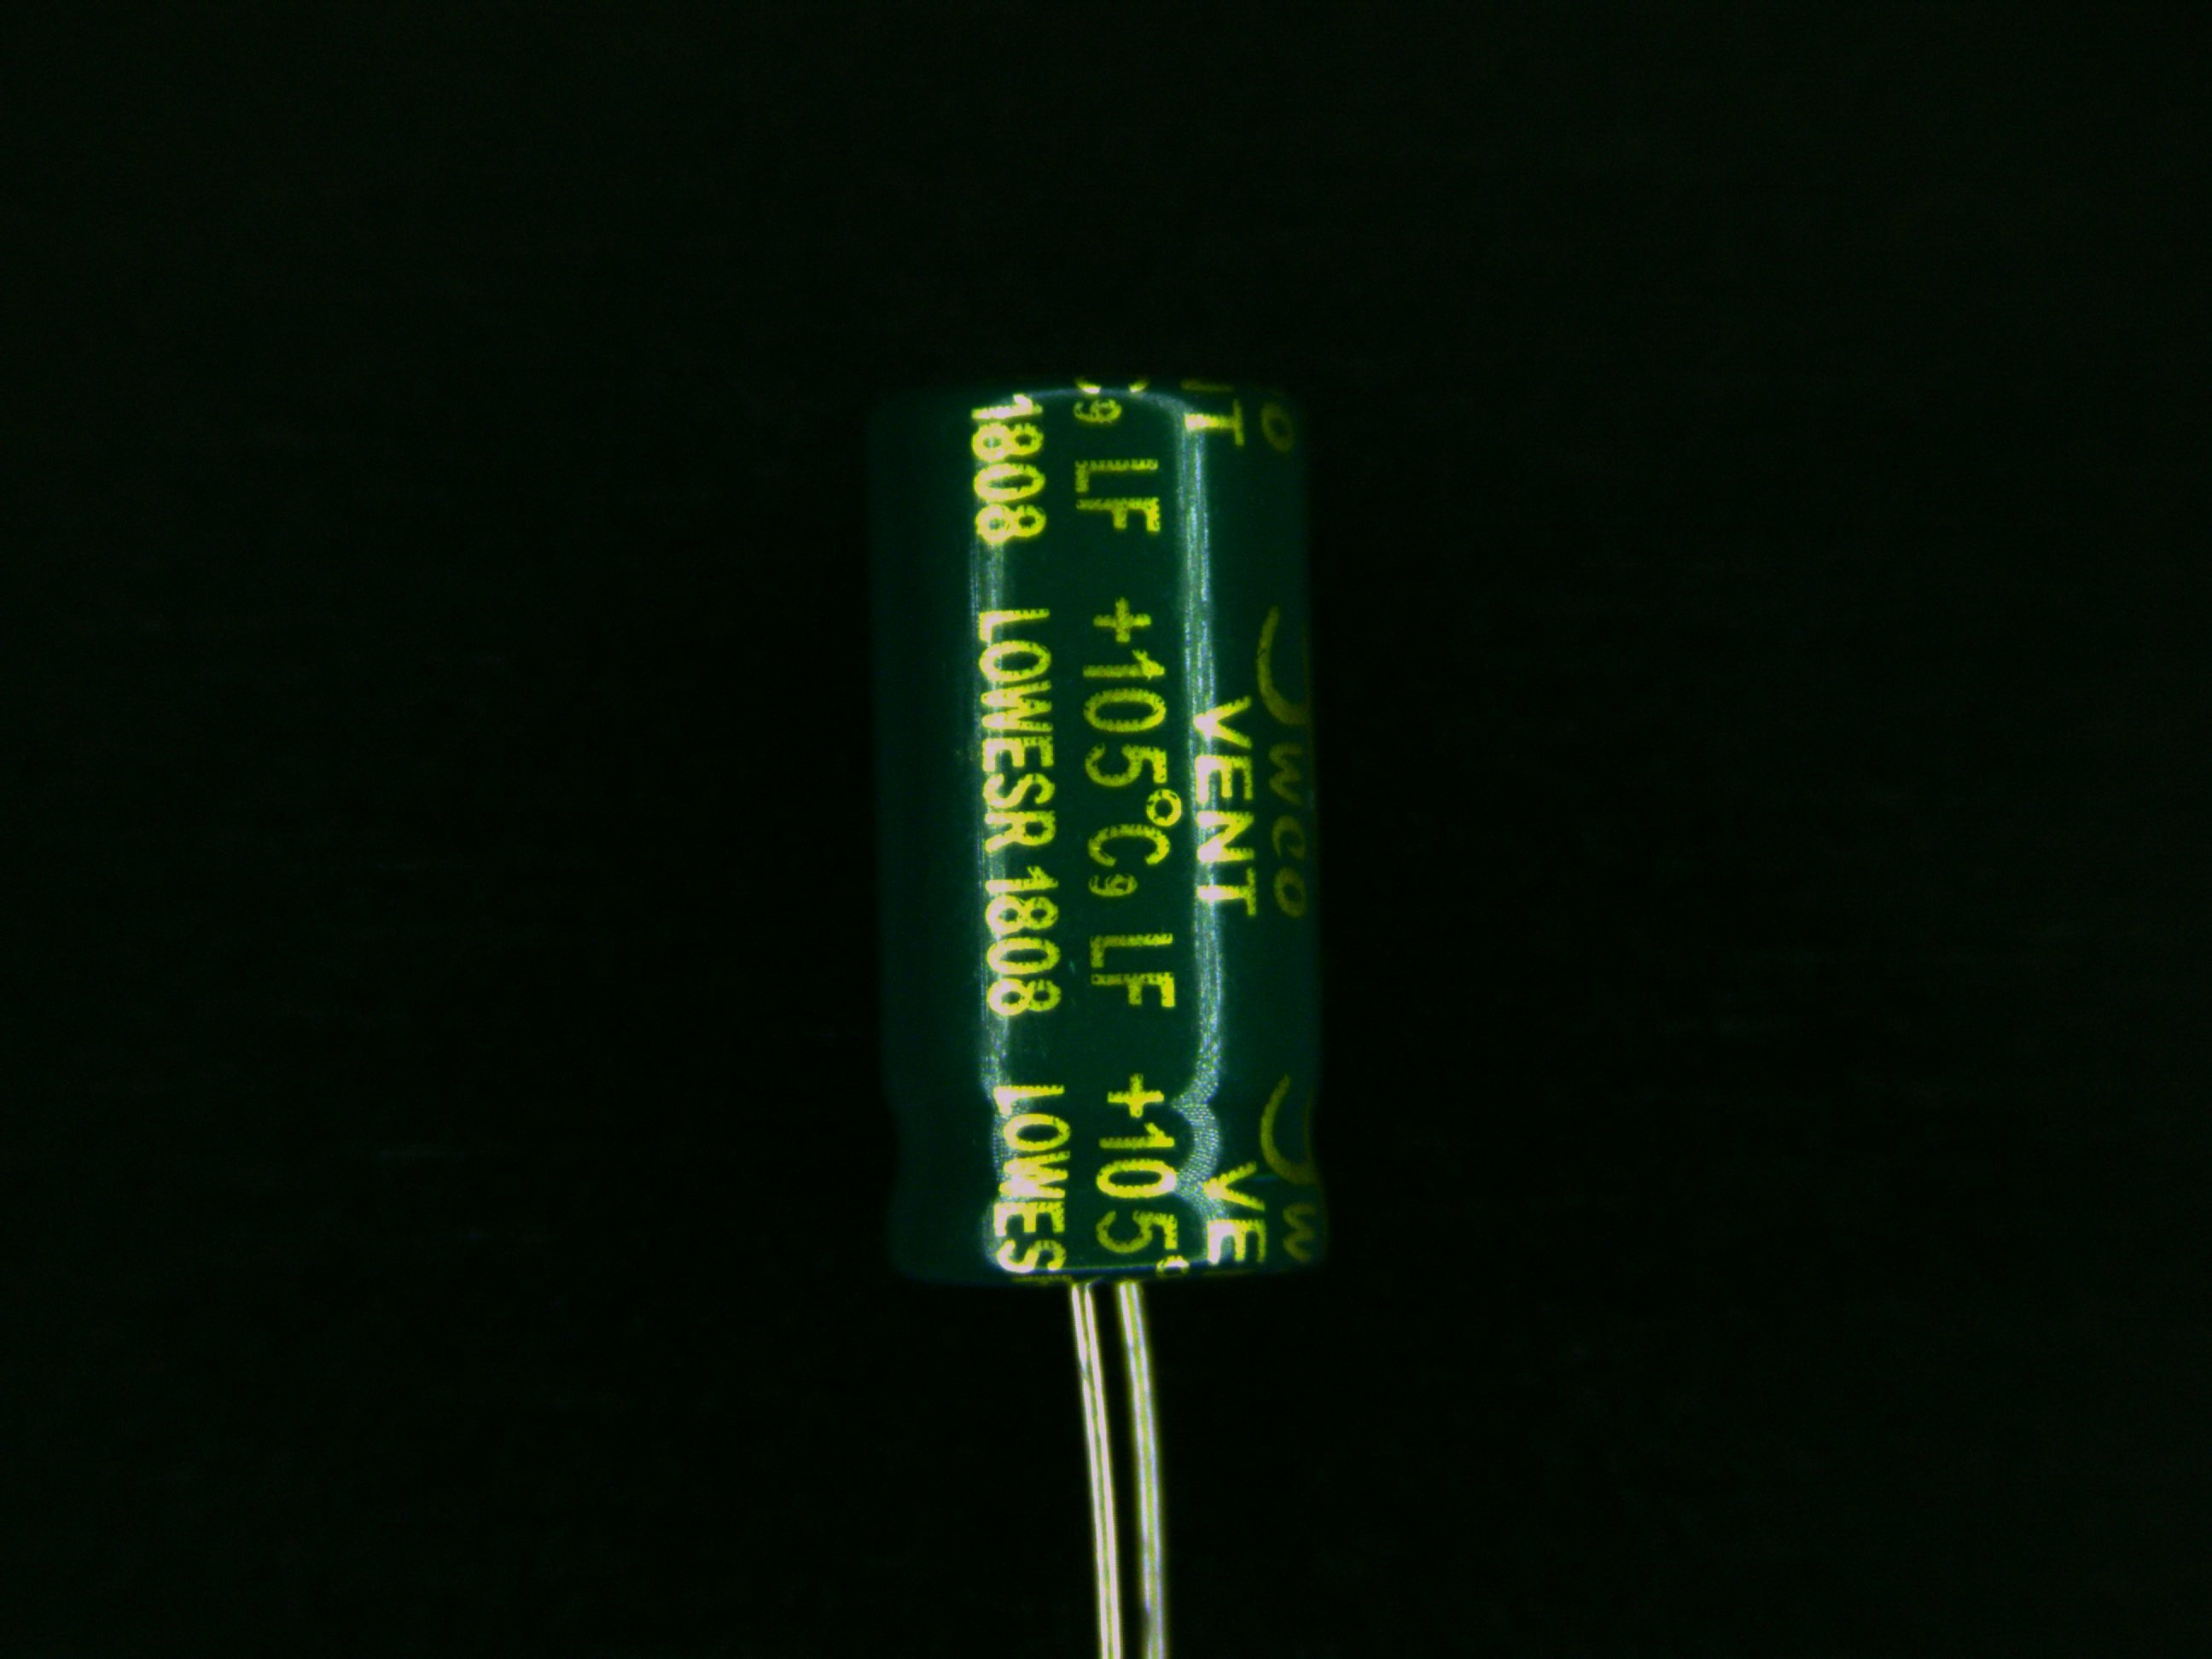c1: (866, 382, 1341, 1373)
